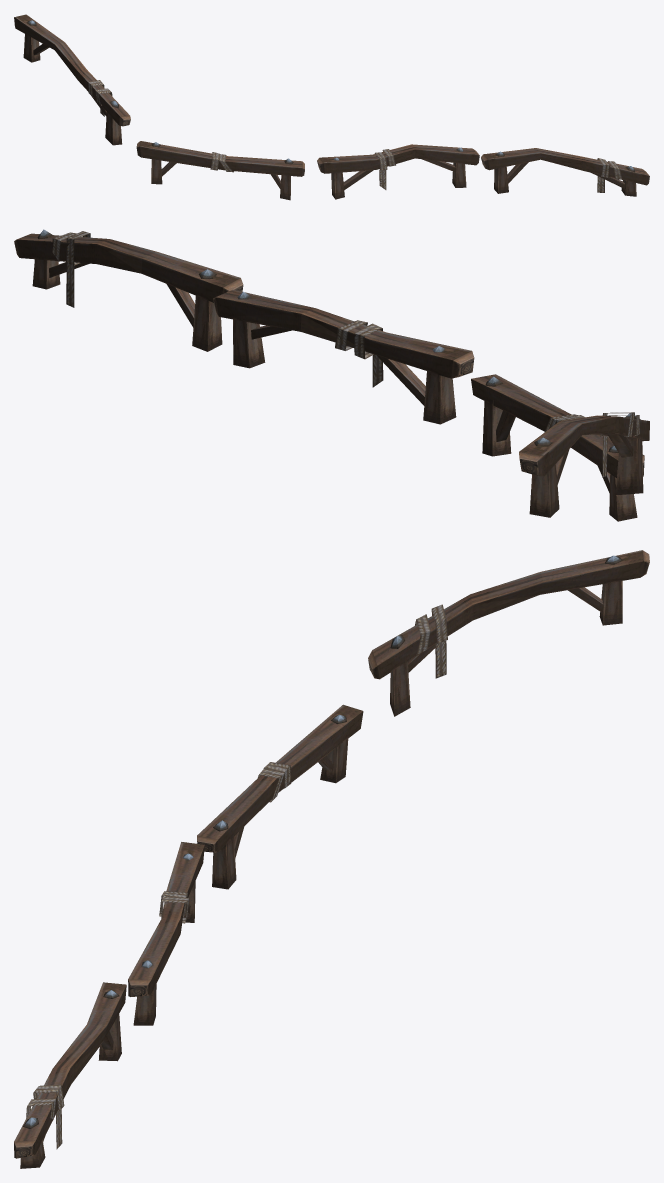
File: object_wooden_fences01.fbx
3 views of the same model, one above another, from view 1: azimuth 30°, elevation 25°; view 2: azimuth 150°, elevation 25°; view 3: azimuth 270°, elevation 25° (orthographic). The views are drawn at different scales.
Visible parts, largest first — view 1: obj1.037; view 2: obj1.037; view 3: obj1.037.
Boxes of the visible parts, bbox=[...] form: obj1.037: bbox=[14, 14, 649, 200]; obj1.037: bbox=[14, 229, 649, 521]; obj1.037: bbox=[14, 550, 649, 1168].
Bounding box in the file's own units: 19.13 × 6.2 × 13.81.
